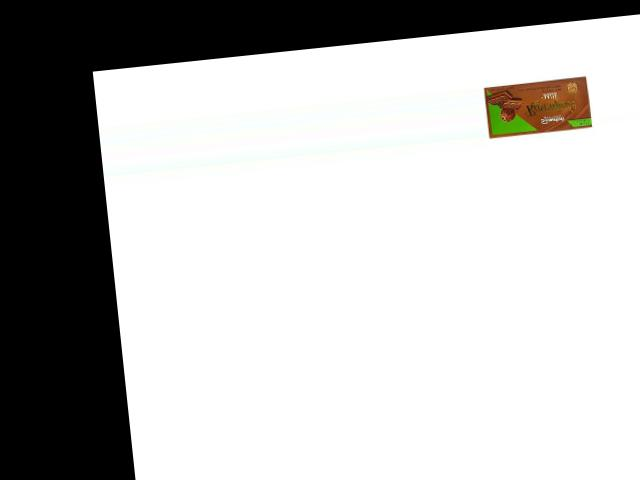chocolate: (481, 71, 596, 140)
